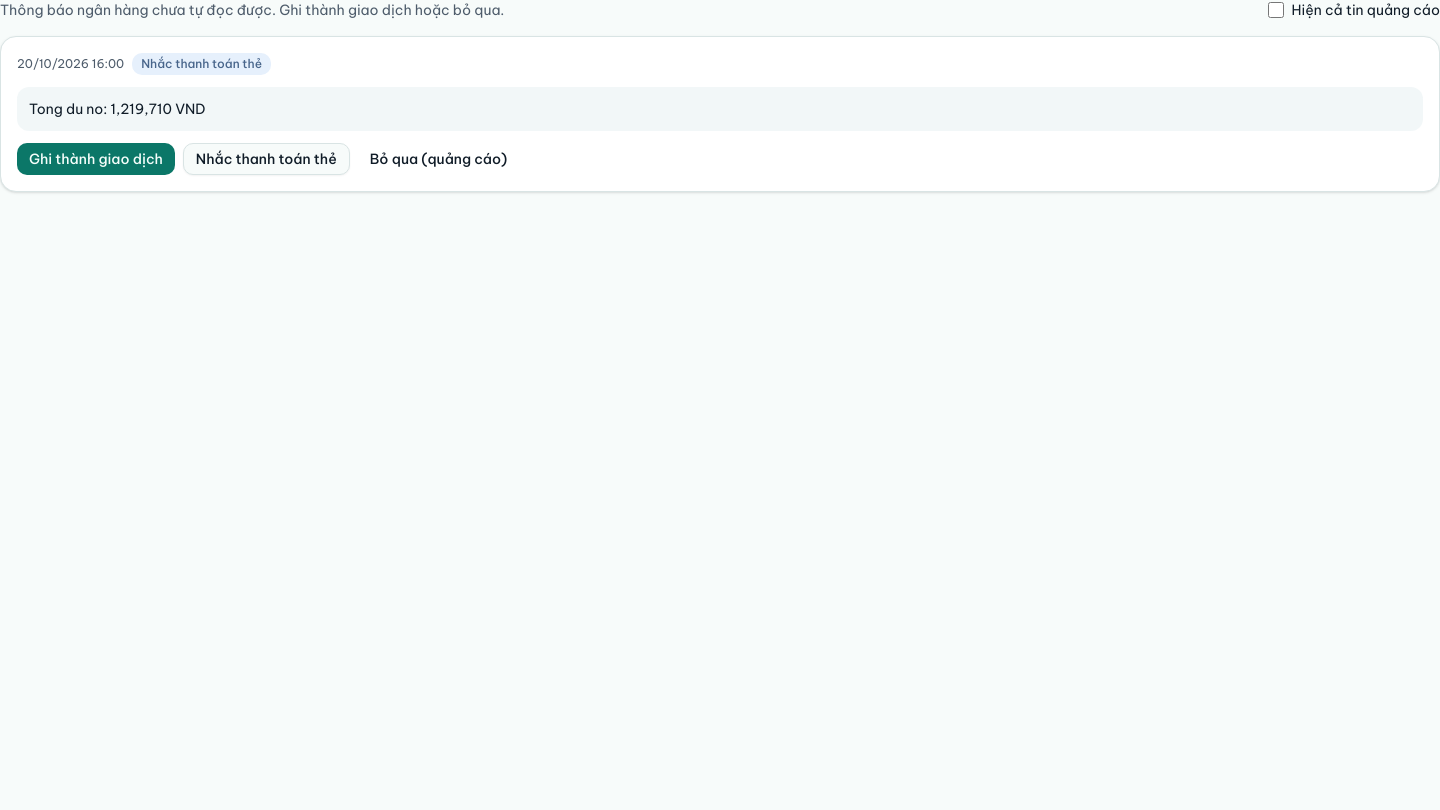
Test: UnparsedInbox › chưa chọn nguồn tiền -> báo lỗi tại ô, không gọi RPC
Click the button "Ghi thành giao dịch". click: (96,159)
box: x1=17 y1=143 x2=175 y2=175
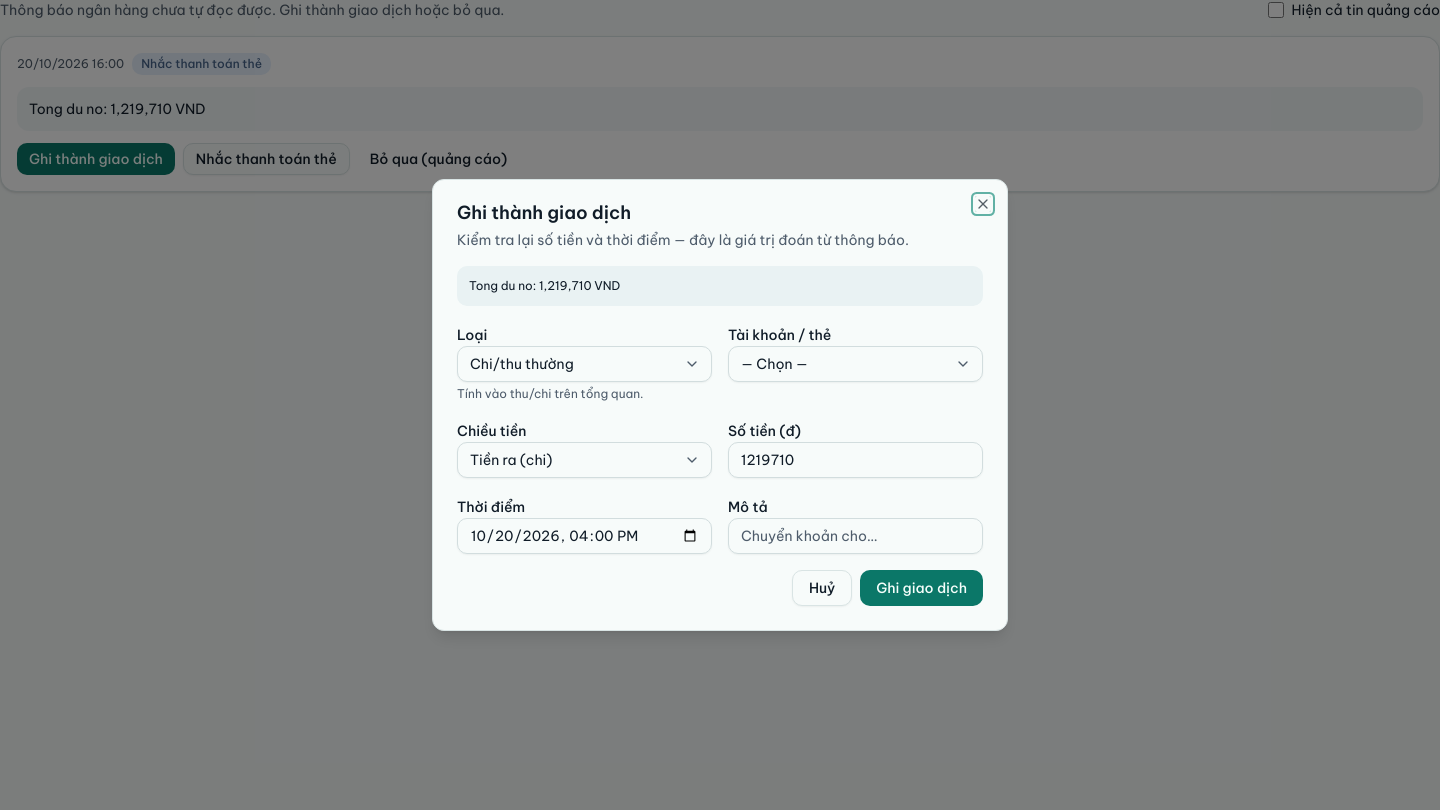
Click the button "Ghi giao dịch". click: (922,588)
box: x1=860 y1=570 x2=983 y2=606
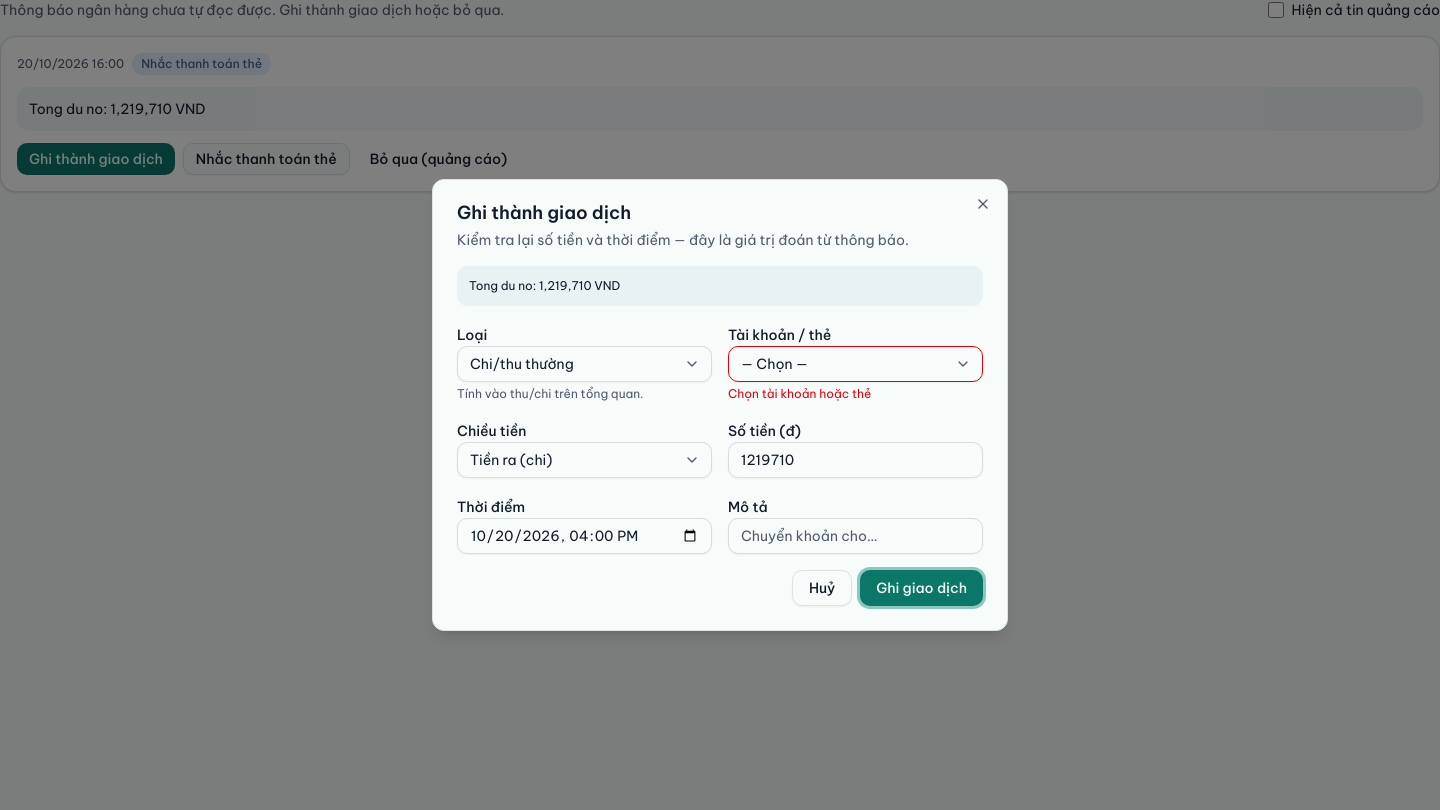
Expected: the text "Chọn tài khoản hoặc thẻ" is shown, x1=728 y1=386 x2=871 y2=401
